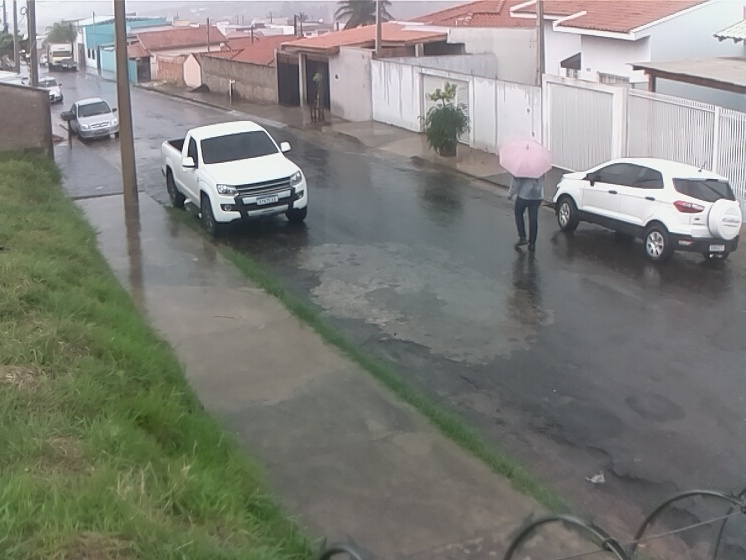person: (505, 172, 549, 256)
